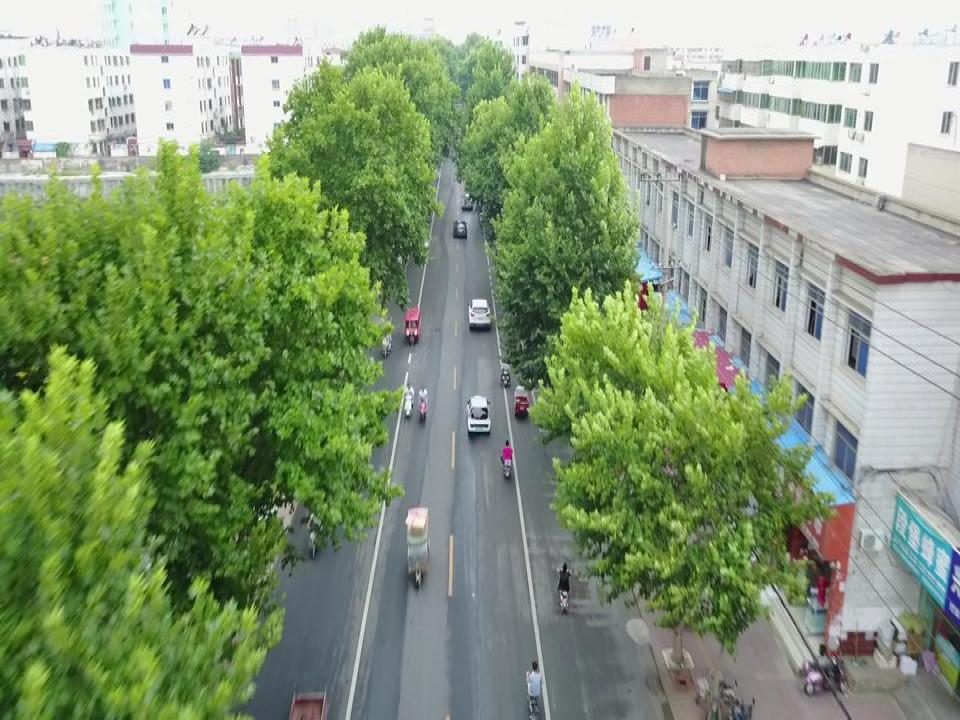car: (466, 393, 490, 434), (467, 296, 493, 329), (452, 218, 466, 238), (461, 191, 473, 209)
